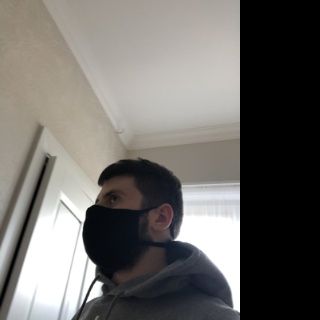with_mask: (82, 184, 144, 270)
